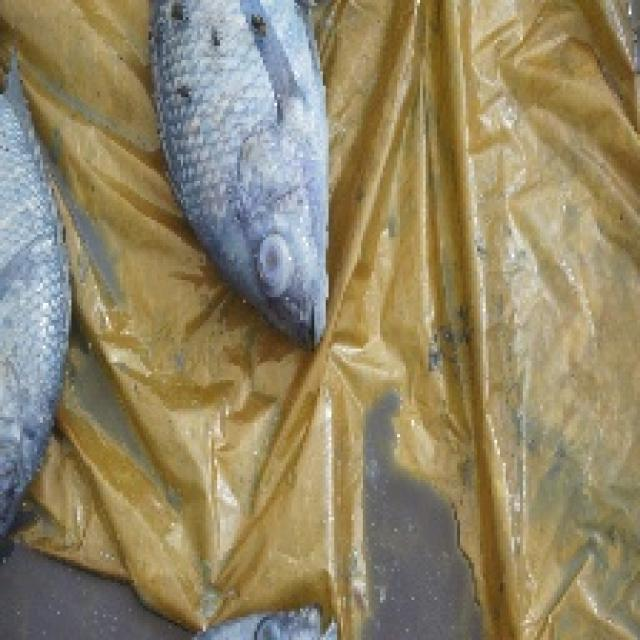Non-Fresh: (129, 7, 382, 349)
